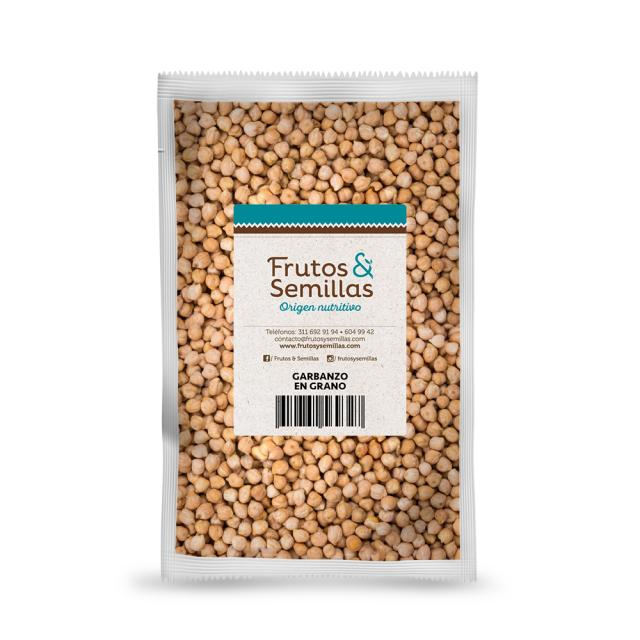garbanzos: (176, 101, 459, 203)
